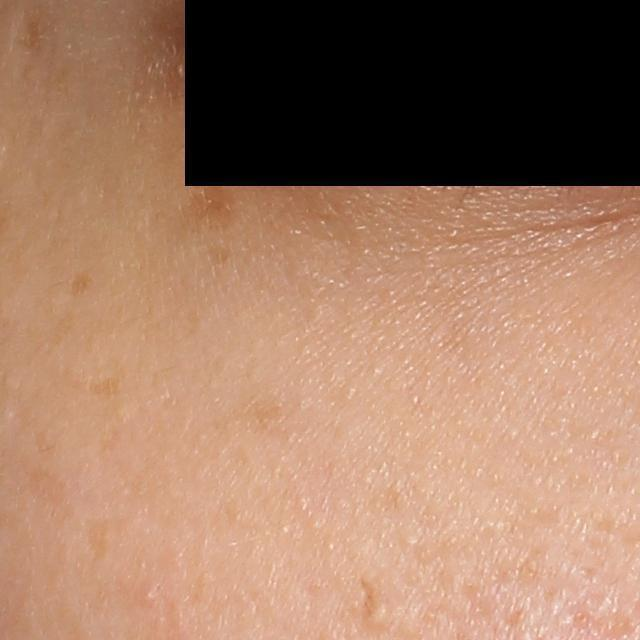comedo: (359, 594, 404, 634), (134, 583, 163, 614)
melasma: (179, 173, 240, 233), (9, 12, 54, 69), (234, 392, 296, 430), (79, 516, 116, 568), (66, 371, 130, 400), (70, 269, 92, 298)
